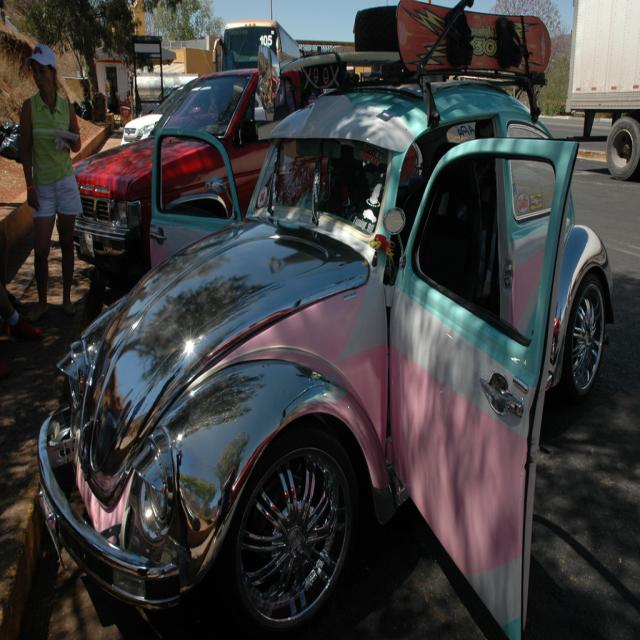car: (26, 80, 639, 625)
